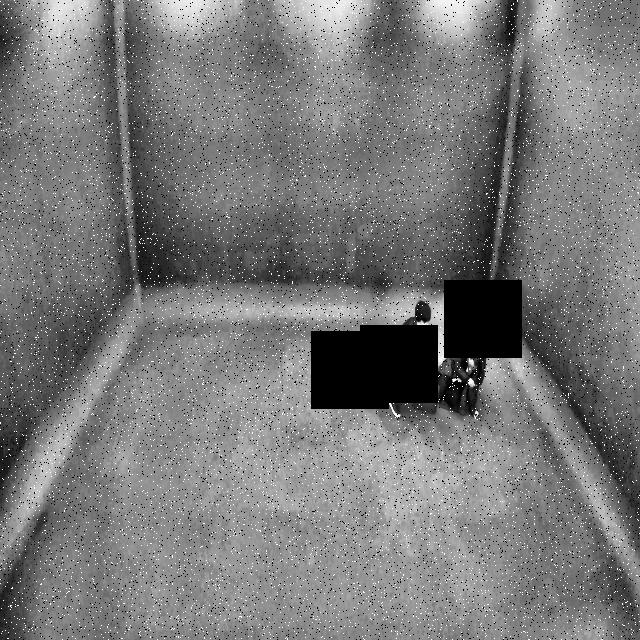assult: (379, 294, 496, 420), (437, 327, 489, 414)
